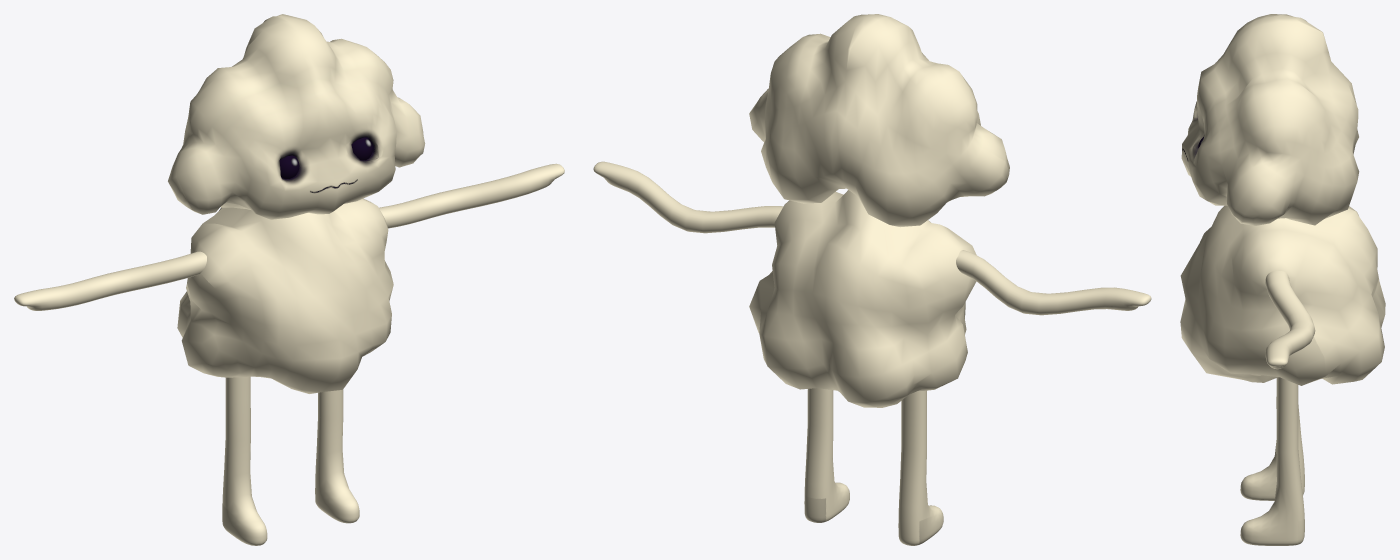
Rendered from cloud_high.fbx.
The picture shows the model from 3 angles, left to right: view 1: azimuth 30°, elevation 25°; view 2: azimuth 150°, elevation 25°; view 3: azimuth 270°, elevation 25°; orthographic projection.
Parts seen in each view (by area): view 1: cloud; view 2: cloud; view 3: cloud.
Boxes of the visible parts, x1=… form: cloud: x1=14, y1=14, x2=564, y2=545; cloud: x1=593, y1=14, x2=1151, y2=545; cloud: x1=1180, y1=14, x2=1385, y2=545.
Size of the model in its own units: 1490 by 1309 by 485.
Materials: 1 (1 with a texture image).
